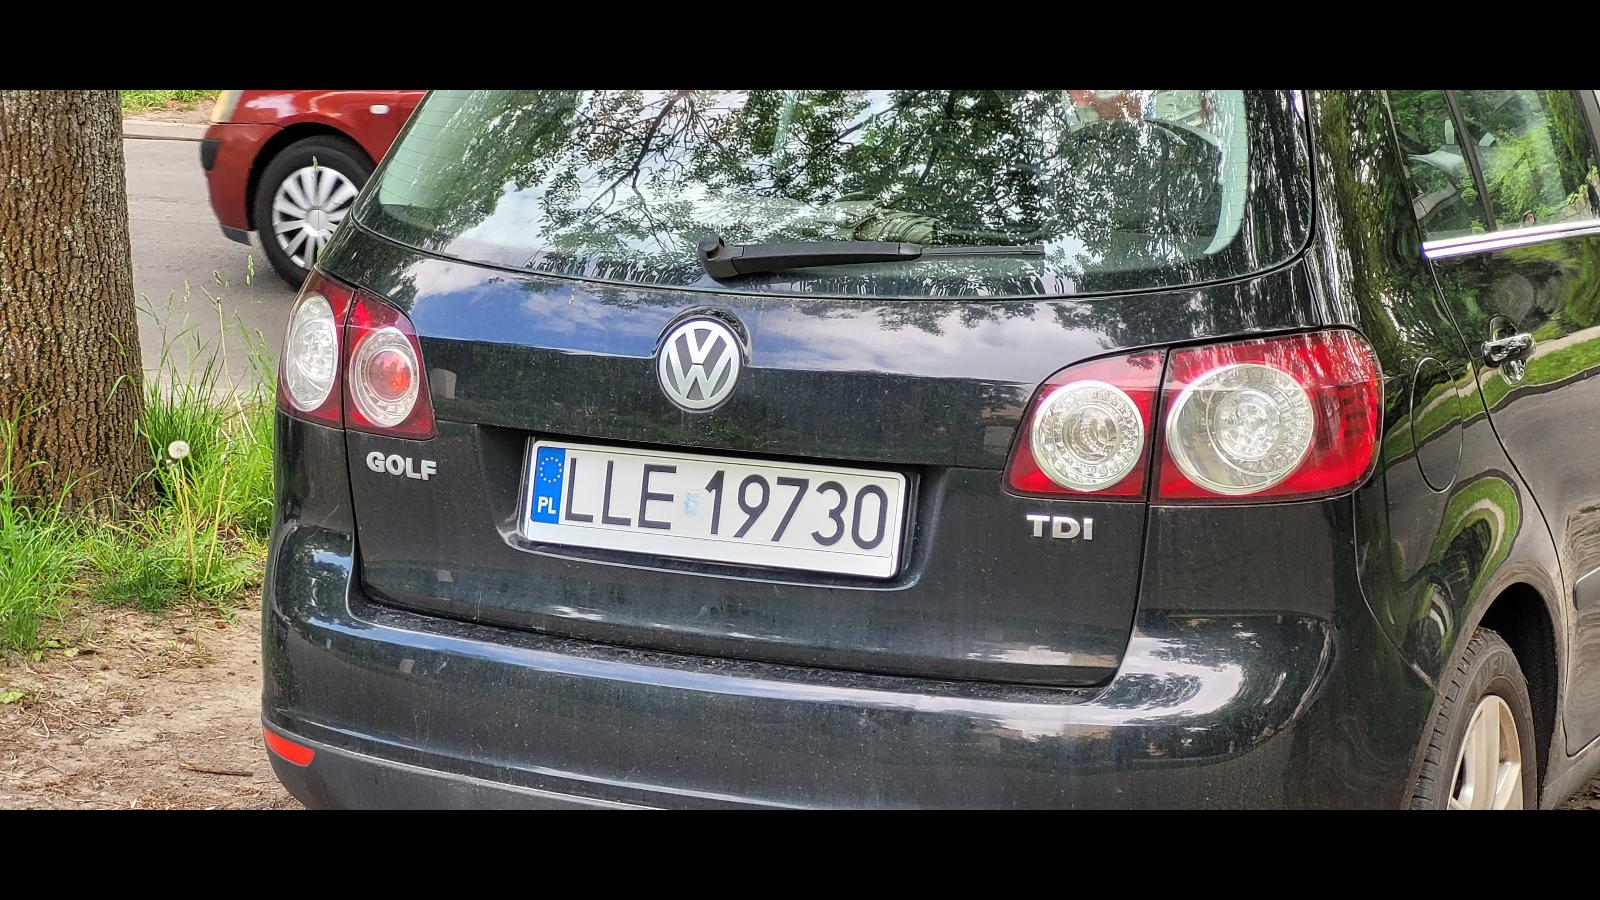plates: (524, 440, 906, 578)
